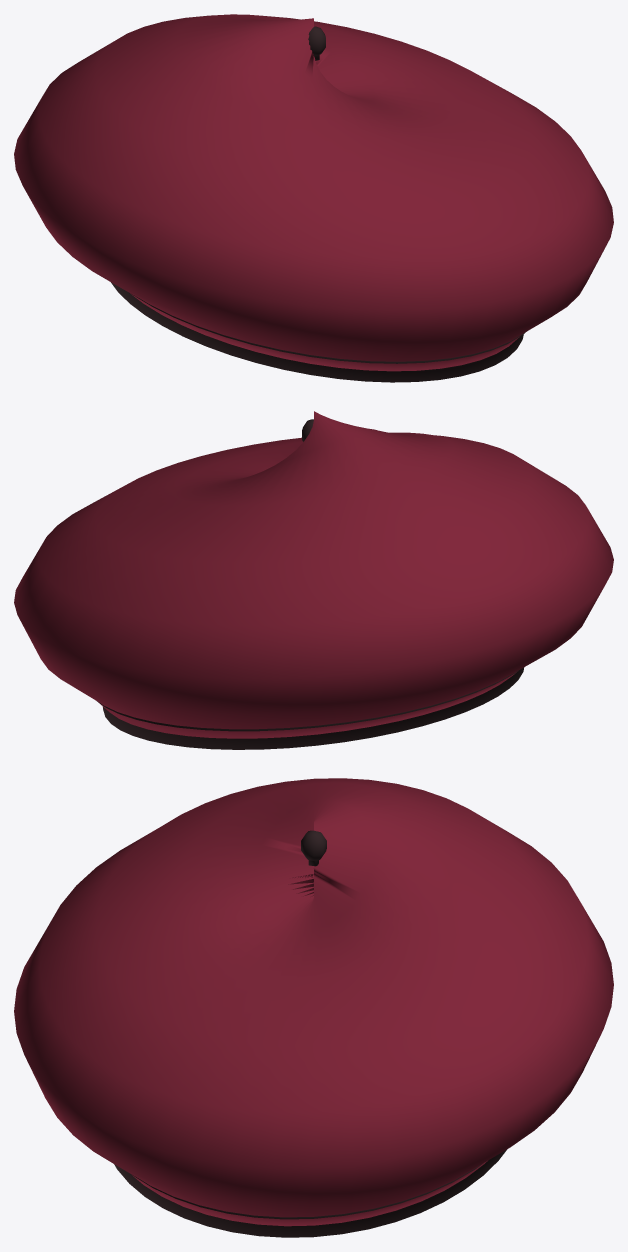
The model's file is beret.glb.
The picture shows the model from 3 angles, top to bottom: view 1: azimuth 30°, elevation 25°; view 2: azimuth 150°, elevation 25°; view 3: azimuth 270°, elevation 25°; orthographic projection. The views are drawn at different scales.
Visible parts, largest first — view 1: beret; view 2: beret; view 3: beret.
Part boxes in pixels (box(x1,y1,x2,y2)): beret: box(14, 14, 613, 382); beret: box(14, 411, 613, 749); beret: box(14, 778, 613, 1237).
Size of the model in its own units: 0.344 by 0.1958 by 0.328.
